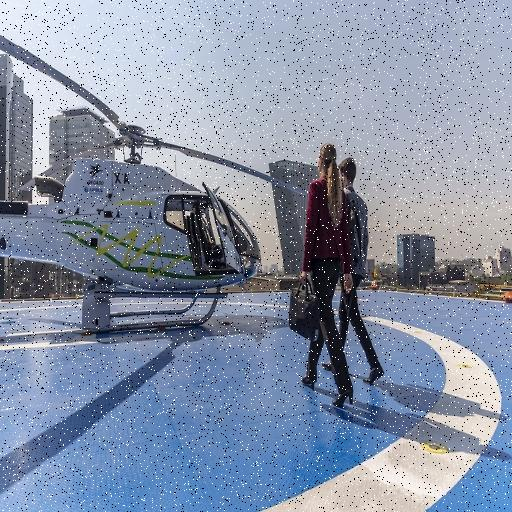helicopter: (1, 15, 308, 342)
